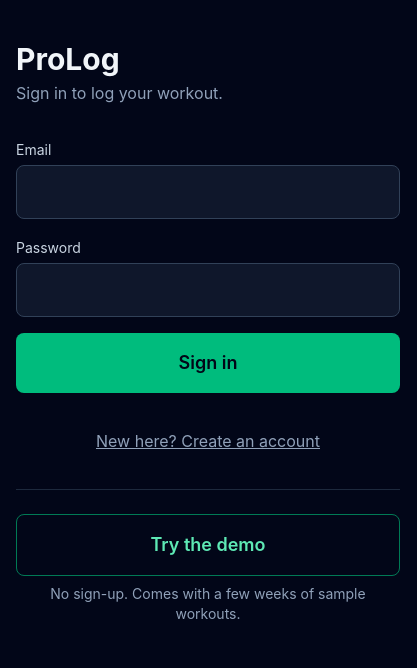
it: AuthScreen › shows the error when sign in fails
The image size is (417, 668).
Type "lifter@example.com" into the field labelled "Email" at (208, 192), box [16,164,400,218]
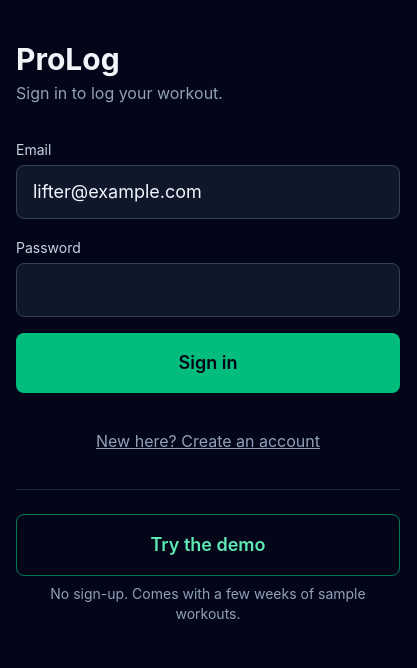
Type "wrong-password" into the password field labelled "Password" at (208, 290), box [16,262,400,316]
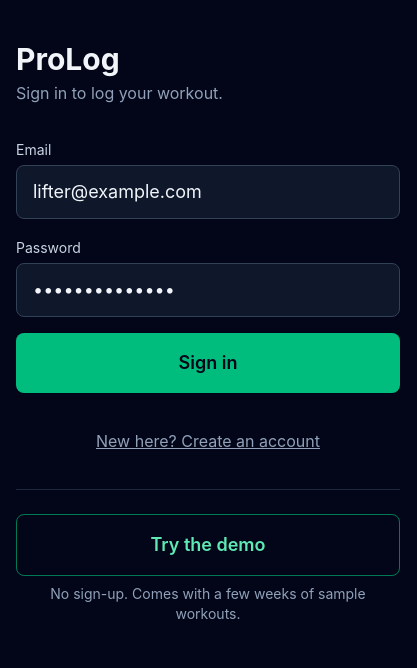
Click the button "Sign in" at (208, 362), box [16,332,400,392]
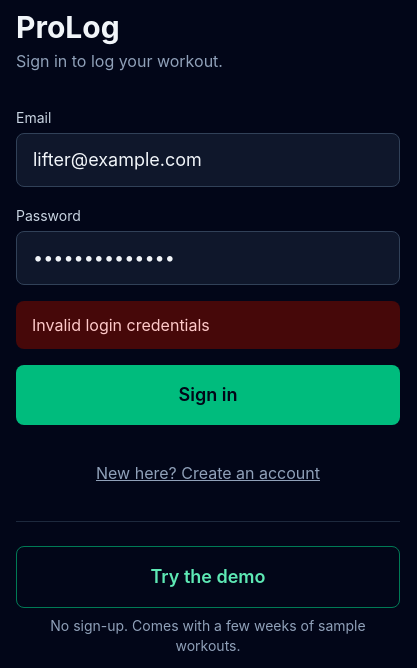
Result: the message reads "Invalid login credentials" at [32,314,210,334]
